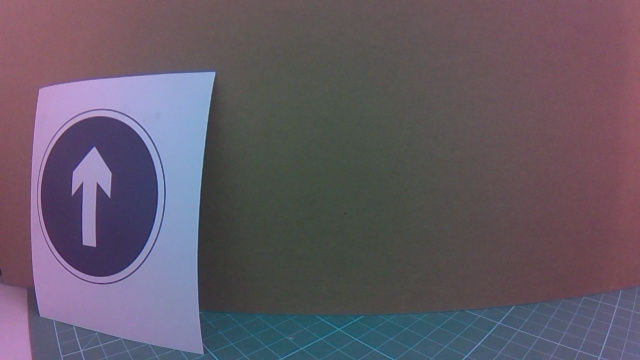forward: (34, 96, 217, 302)
